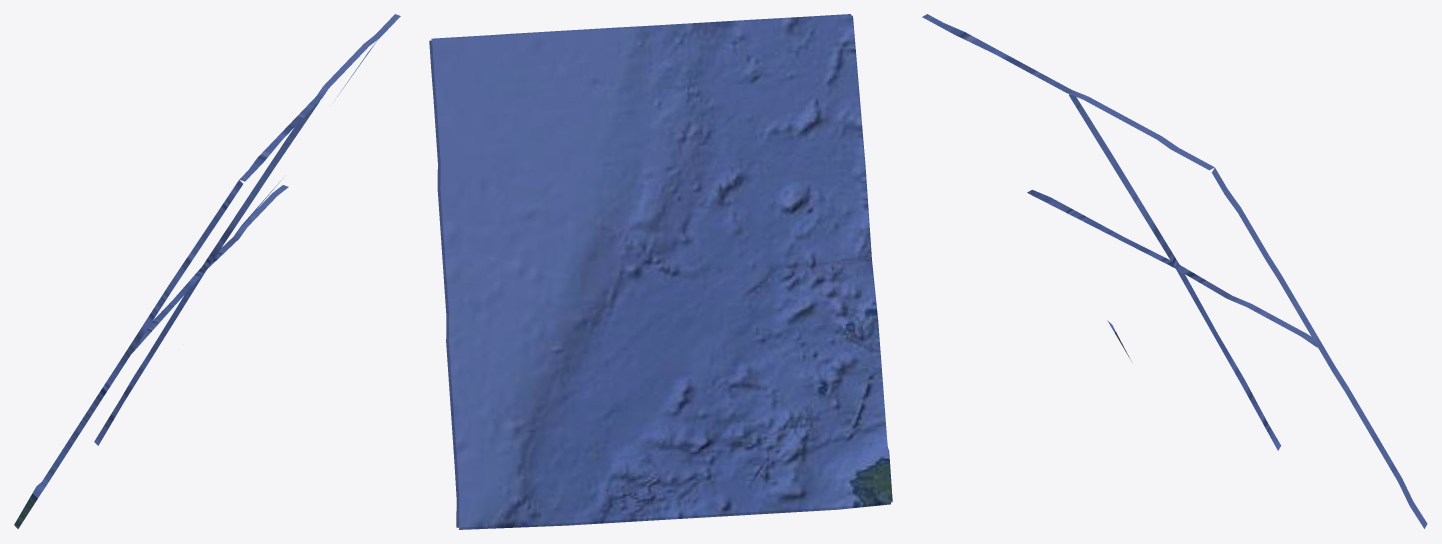
3 renders of one model, left to right at view 1: azimuth 30°, elevation 25°; view 2: azimuth 150°, elevation 25°; view 3: azimuth 270°, elevation 25°, orthographic. The views are drawn at different scales.
Bounding box in the file's own units: 313790 × 276833 × 294210.
Materials: 1 (1 with a texture image).
